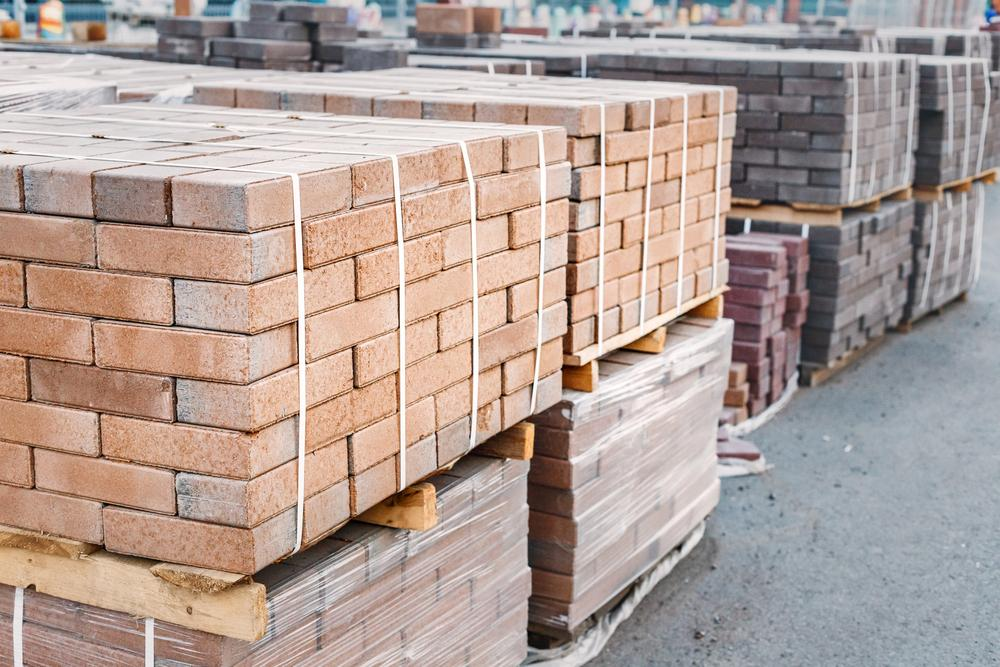Bricks: (177, 440, 350, 528), (102, 507, 305, 575), (173, 355, 352, 432), (173, 262, 355, 335), (93, 320, 297, 385), (100, 415, 302, 477), (403, 245, 542, 325), (173, 168, 348, 228), (27, 357, 175, 425), (37, 443, 177, 508), (28, 265, 173, 327), (97, 230, 292, 273), (302, 375, 397, 455), (303, 288, 405, 360), (352, 397, 438, 477), (305, 205, 395, 275), (352, 318, 440, 385), (2, 485, 102, 543), (403, 338, 478, 410), (358, 237, 443, 298), (2, 210, 93, 265), (437, 402, 505, 465), (238, 148, 380, 177), (402, 183, 475, 238), (640, 218, 727, 263), (440, 368, 500, 433), (440, 290, 507, 348), (478, 315, 543, 373), (97, 172, 168, 222), (22, 167, 93, 217), (477, 168, 543, 220), (533, 103, 625, 140), (508, 373, 565, 432), (445, 220, 515, 268), (605, 122, 685, 163), (505, 338, 565, 392), (510, 267, 567, 322), (353, 455, 402, 512), (167, 147, 287, 170), (305, 482, 350, 542), (512, 202, 570, 247), (348, 162, 397, 210), (398, 150, 440, 197), (27, 155, 135, 173), (402, 437, 442, 485), (98, 147, 203, 165), (618, 265, 665, 305), (577, 308, 623, 348), (172, 168, 292, 183), (573, 227, 623, 262), (103, 163, 190, 182), (473, 97, 527, 127), (598, 243, 640, 280), (418, 100, 475, 127), (625, 207, 662, 247), (695, 258, 735, 295), (602, 190, 647, 222), (662, 272, 698, 312), (577, 165, 628, 192), (5, 442, 35, 487), (625, 155, 667, 187), (467, 137, 500, 177), (538, 123, 570, 163), (683, 115, 718, 150), (663, 197, 698, 232), (663, 252, 697, 288), (542, 237, 573, 275), (628, 102, 670, 130), (667, 90, 708, 118), (507, 135, 537, 173), (543, 163, 575, 198), (622, 295, 657, 327), (542, 303, 570, 342), (698, 190, 732, 222), (235, 87, 282, 110), (647, 177, 680, 208), (568, 288, 598, 322), (672, 148, 705, 178), (680, 168, 713, 198), (282, 92, 328, 113), (572, 135, 597, 172), (0, 167, 22, 208), (575, 200, 603, 232), (573, 258, 598, 293), (702, 143, 738, 167), (375, 100, 423, 118), (327, 98, 372, 117), (710, 88, 738, 118), (700, 238, 725, 267), (442, 148, 460, 183), (195, 90, 230, 108), (600, 285, 620, 308), (717, 163, 735, 187), (715, 118, 732, 138)
